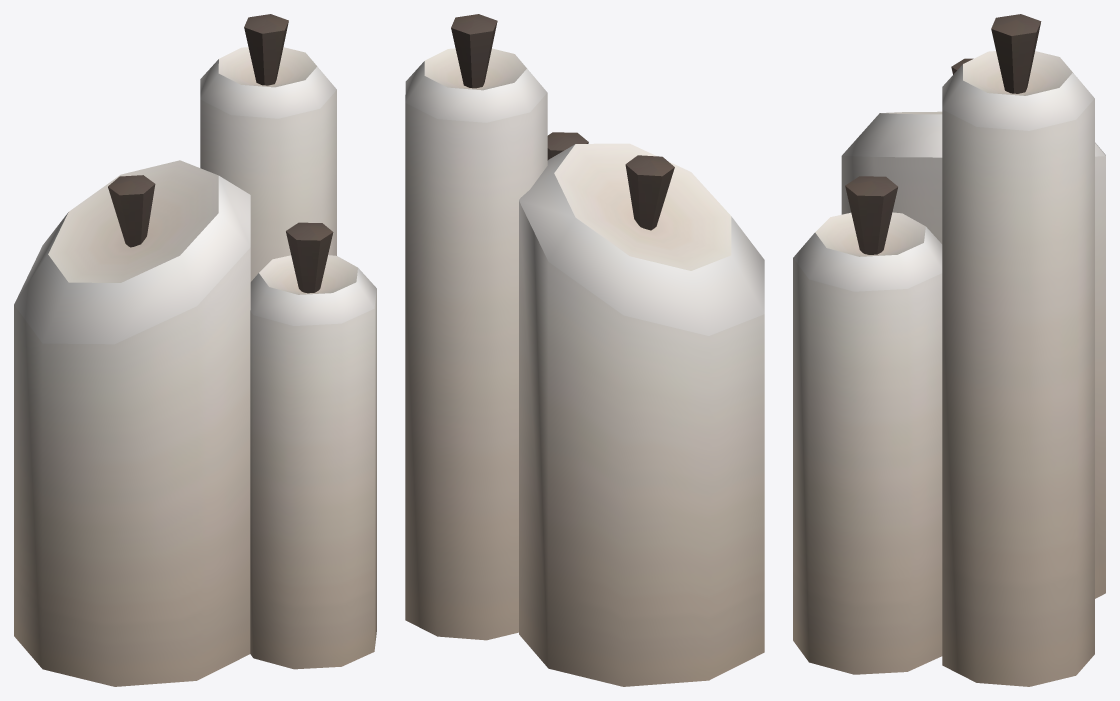
File: candle_triple.glb
3 views of the same model, side by side, from view 1: azimuth 30°, elevation 25°; view 2: azimuth 150°, elevation 25°; view 3: azimuth 270°, elevation 25° (orthographic). The views are drawn at different scales.
Parts seen in each view (by area): view 1: candle_triple; view 2: candle_triple; view 3: candle_triple.
Boxes of the visible parts, bbox=[...] form: candle_triple: bbox=[14, 14, 376, 686]; candle_triple: bbox=[405, 14, 764, 686]; candle_triple: bbox=[793, 14, 1105, 686].
Size of the model in its own units: 0.5012 by 0.873 by 0.3899.
1 material, 1 textured.
